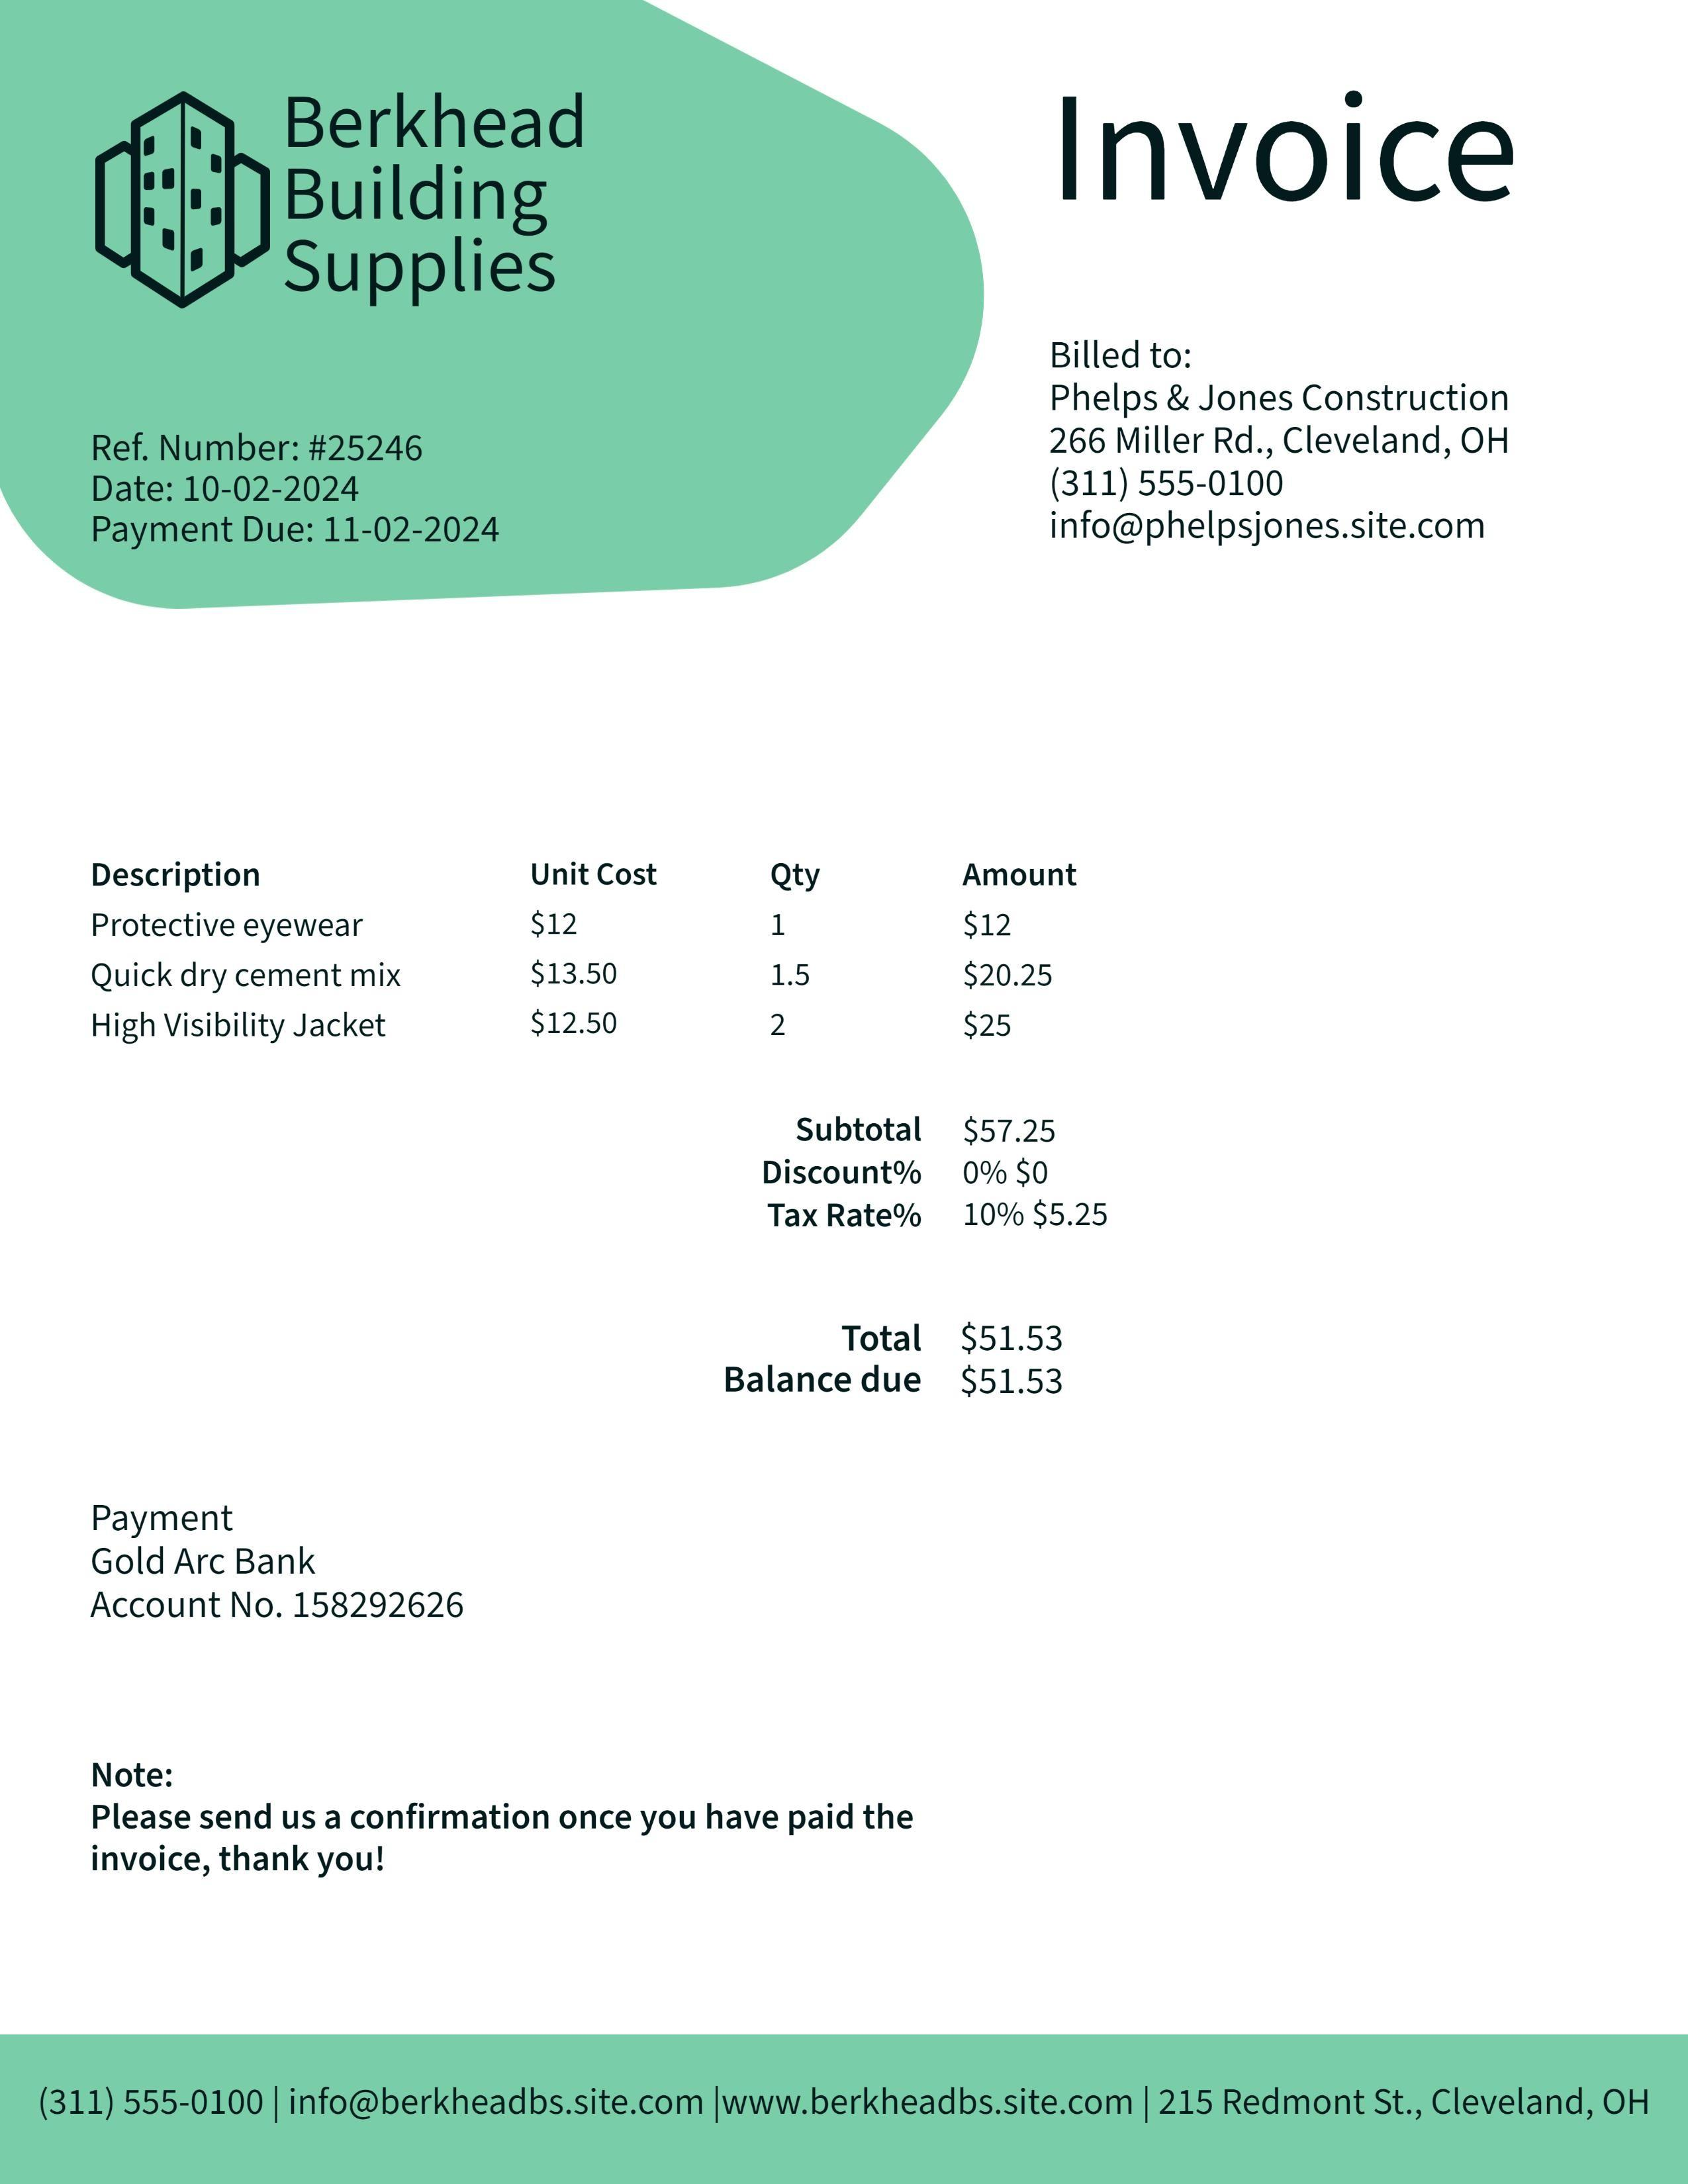ROI: (74, 1494, 975, 1909), (83, 837, 1096, 1083), (731, 1096, 1117, 1461), (1037, 312, 1536, 558), (271, 71, 640, 312), (74, 415, 555, 585)
